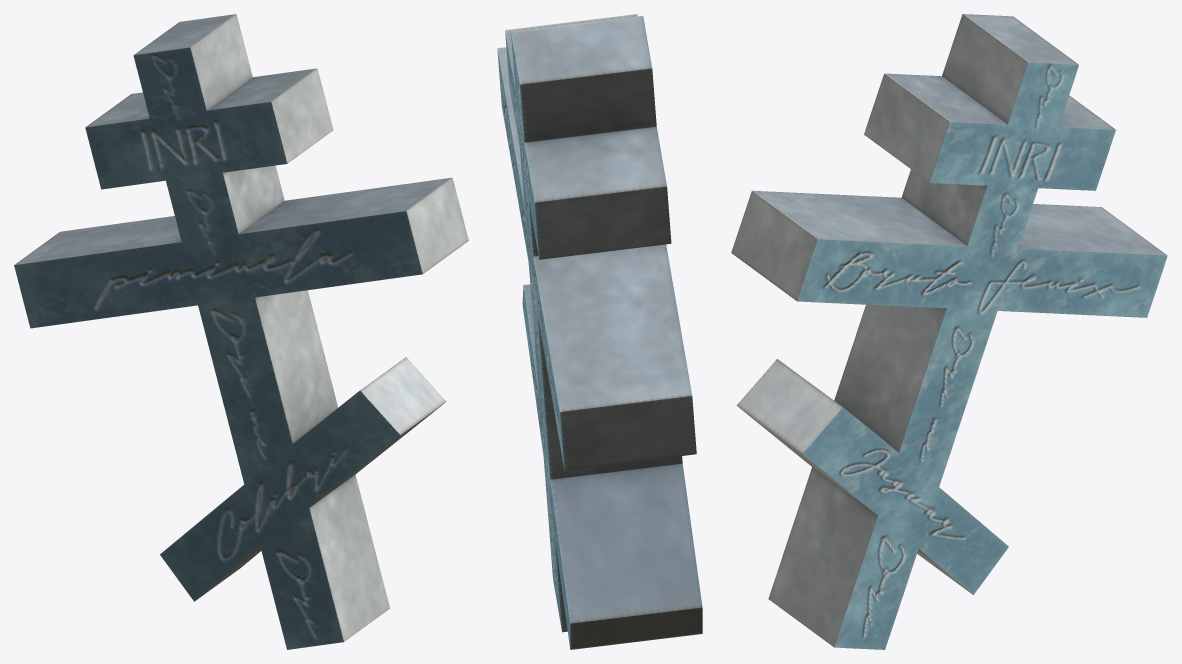
The picture shows the model from 3 angles, left to right: view 1: azimuth 30°, elevation 25°; view 2: azimuth 150°, elevation 25°; view 3: azimuth 270°, elevation 25°; orthographic projection. The views are drawn at different scales.
Parts seen in each view (by area): view 1: Cruz_Orto_Cube.011; view 2: Cruz_Orto_Cube.011; view 3: Cruz_Orto_Cube.011.
Part boxes in pixels (bbox=[...]): Cruz_Orto_Cube.011: bbox=[14, 14, 468, 649]; Cruz_Orto_Cube.011: bbox=[497, 14, 702, 649]; Cruz_Orto_Cube.011: bbox=[731, 14, 1167, 649].
Size of the model in its own units: 1.53 by 2.69 by 1.83.
